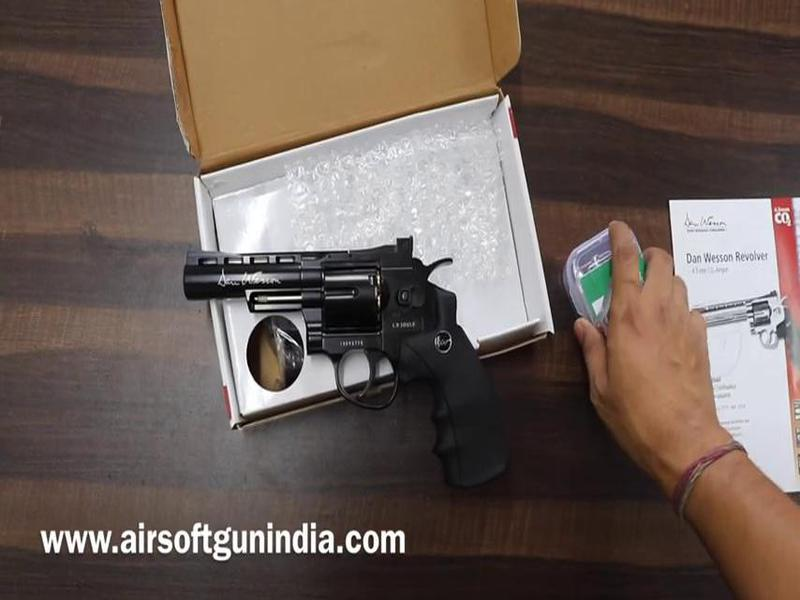Revolver: (162, 217, 523, 493)
